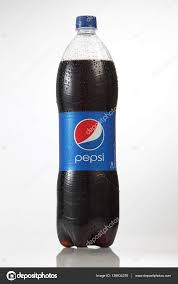bottle: (36, 8, 145, 254)
pepsi: (57, 113, 119, 171)
plastic: (36, 9, 147, 253)
